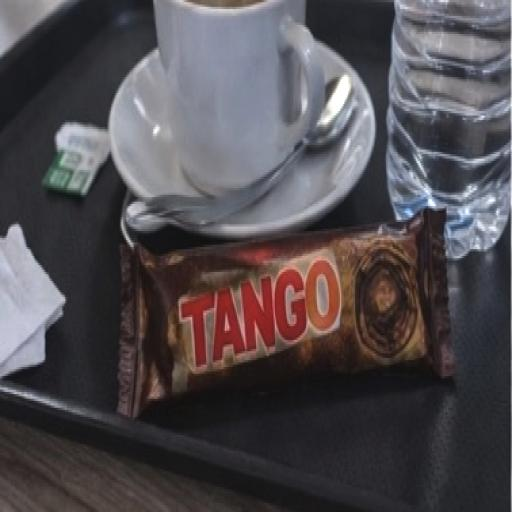tango: (82, 154, 464, 448)
